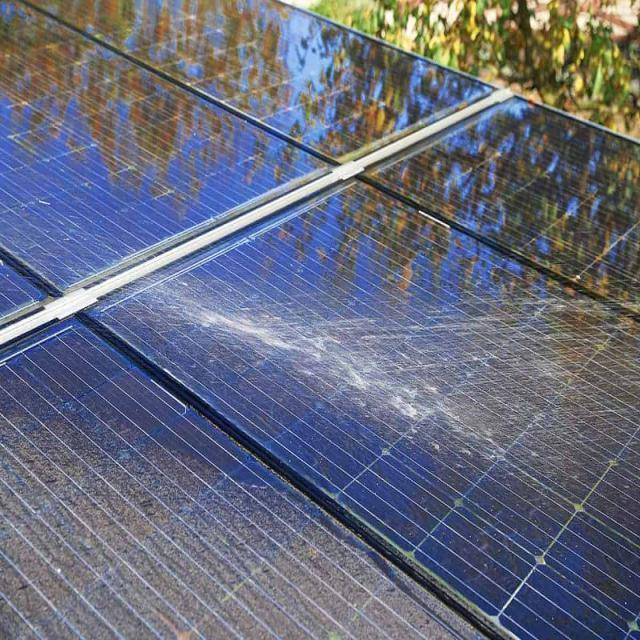Anomaly Solar Panel: (4, 97, 640, 639)
Surface Contaminant: (123, 275, 636, 542), (0, 401, 490, 639)
